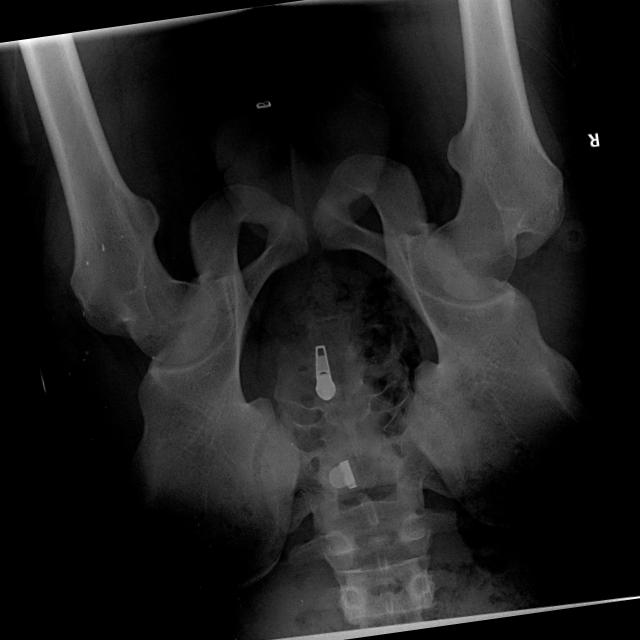normal-left: (31, 78, 216, 363)
normal-right: (423, 10, 565, 301)
